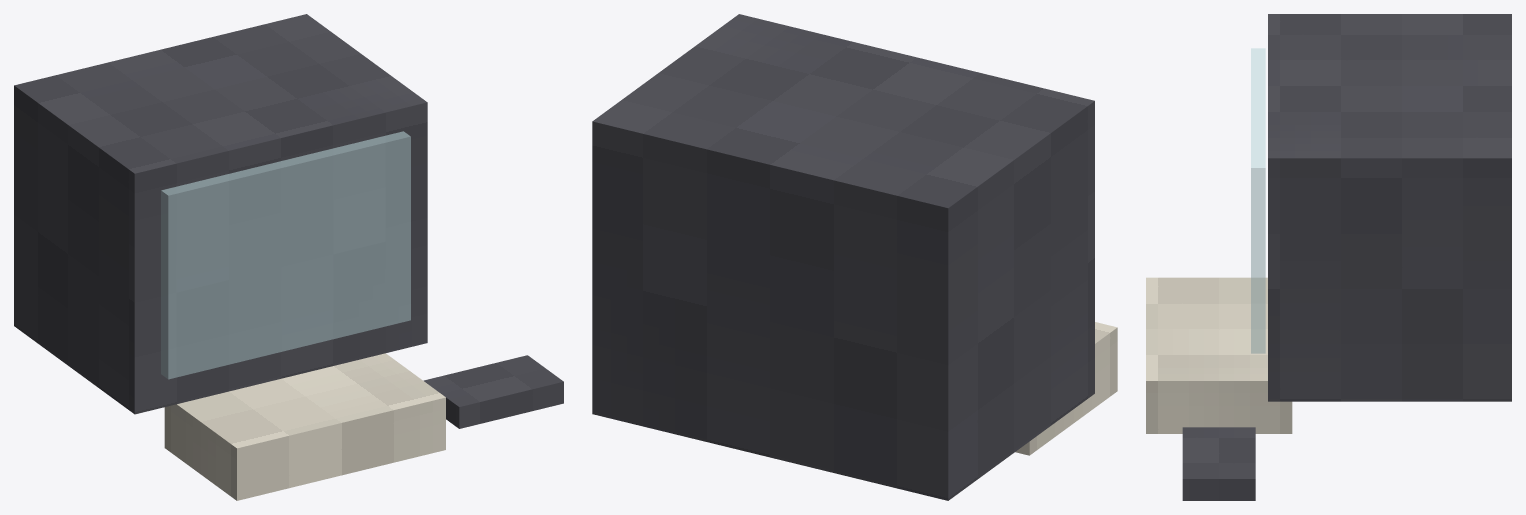
File: retro-arcade-and-mall-1989-crt-and-console-10e9461d__15556.glb
The picture shows the model from 3 angles, left to right: view 1: azimuth 30°, elevation 25°; view 2: azimuth 150°, elevation 25°; view 3: azimuth 270°, elevation 25°; orthographic projection. The views are drawn at different scales.
Parts seen in each view (by area): view 1: crt-and-console; view 2: crt-and-console; view 3: crt-and-console.
Boxes of the visible parts, x1,y1,x2,y2 form: crt-and-console: [14, 14, 563, 500]; crt-and-console: [592, 14, 1117, 500]; crt-and-console: [1146, 14, 1511, 500].
Bounding box in the file's own units: 0.925 × 0.67 × 0.75.
3 materials, 2 textured.
